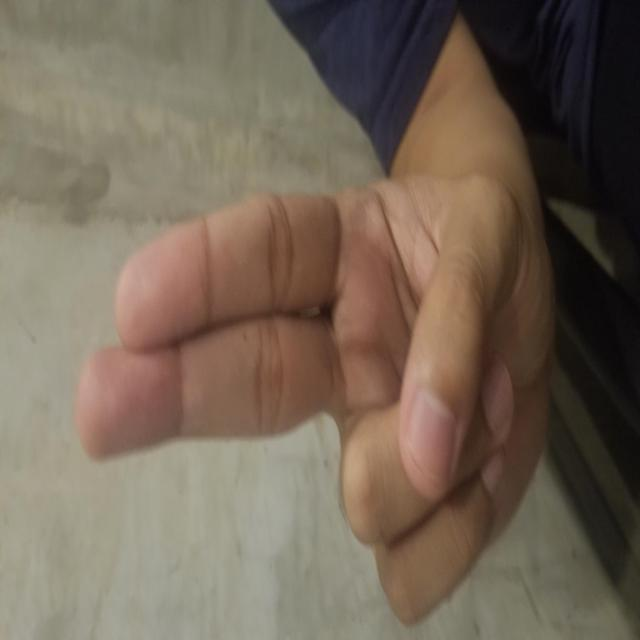U: (9, 75, 470, 552)
